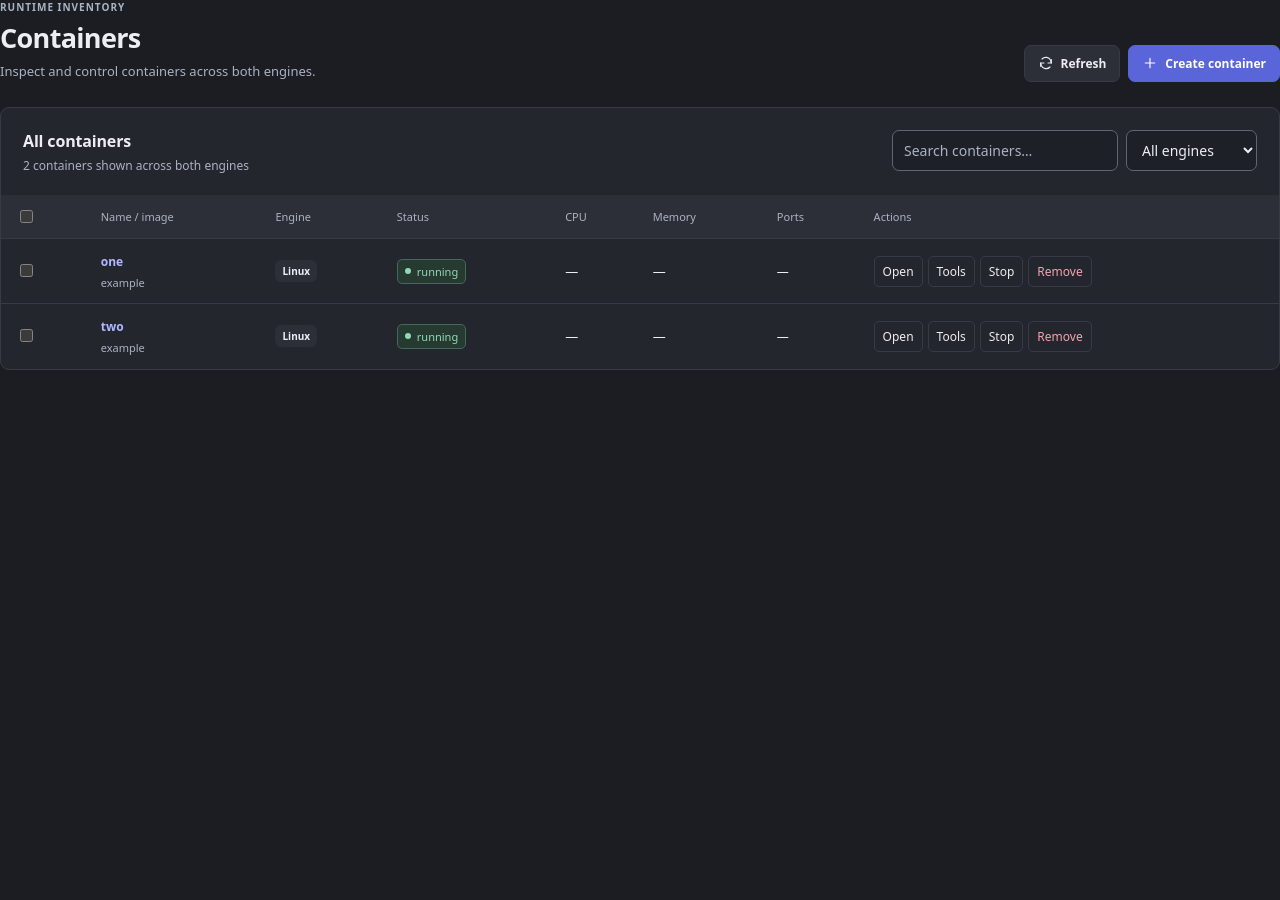
it: confirms bulk kill and keeps only failed containers selected for retry
The image size is (1280, 900).
Expected: the button "one" is shown, [101,253,123,270]
Click the checkbox named "Select one": (26, 271) [20,264,33,277]
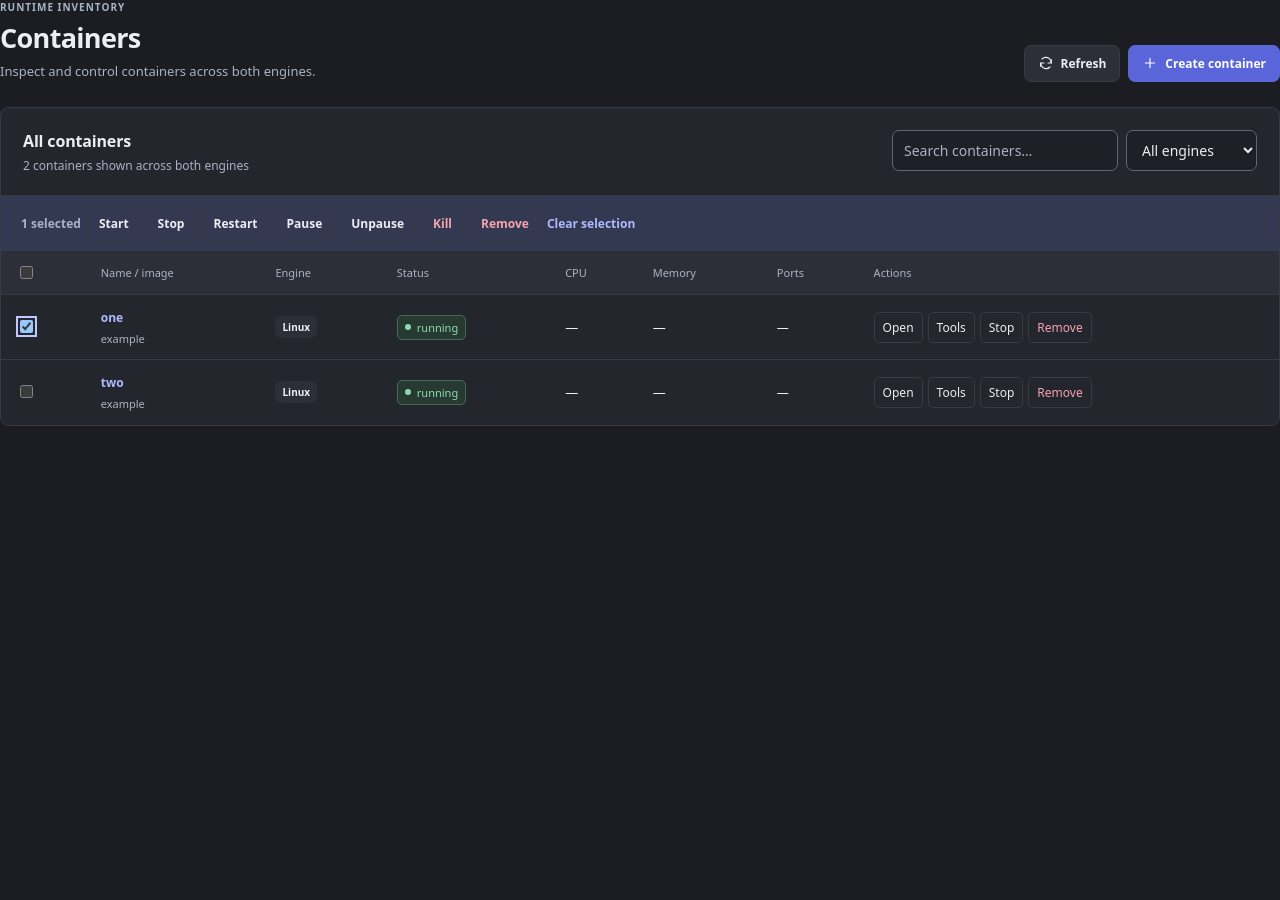
Click the checkbox named "Select two": (26, 392) [20,386,33,398]
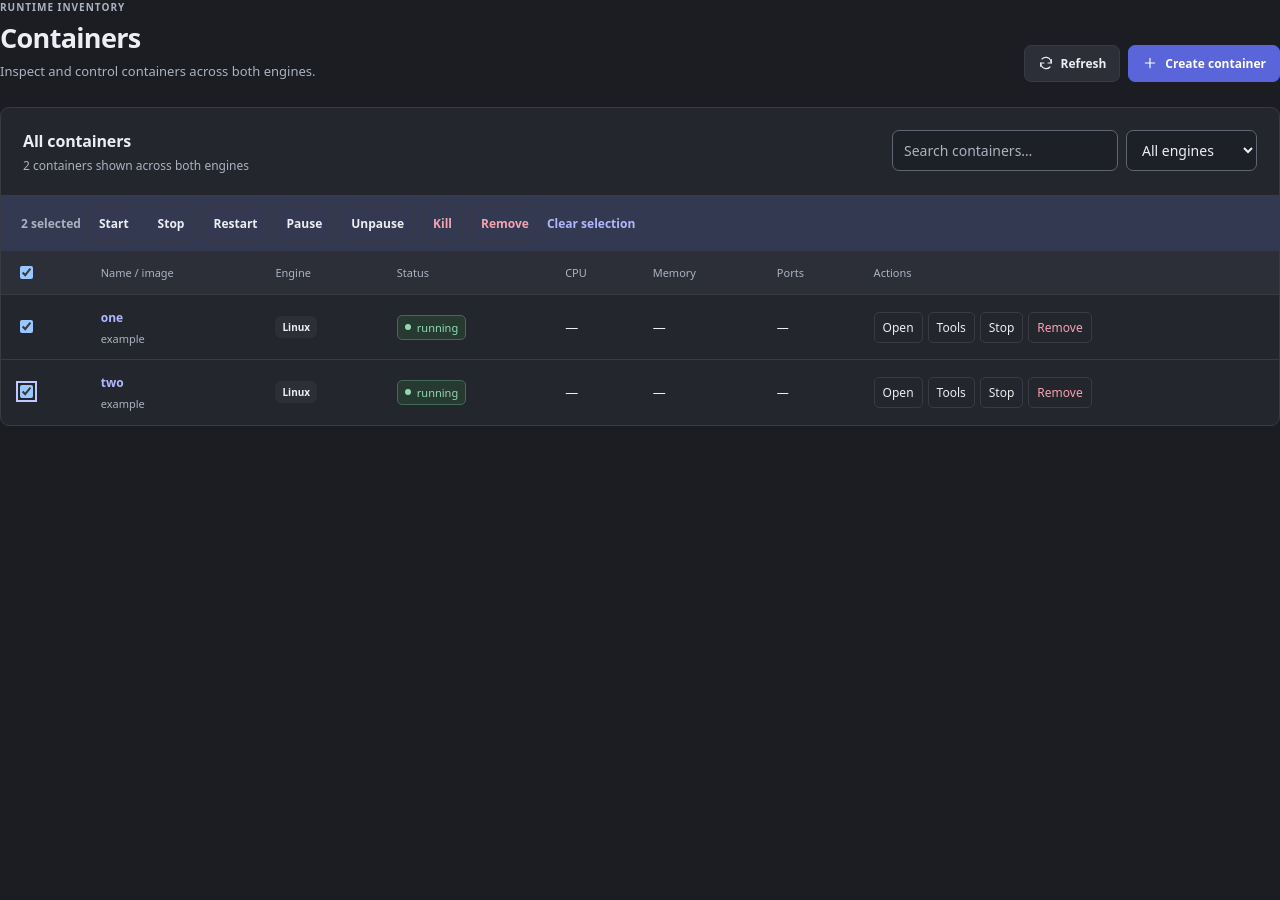
Click the button "Kill": (442, 223) [422,206,463,241]
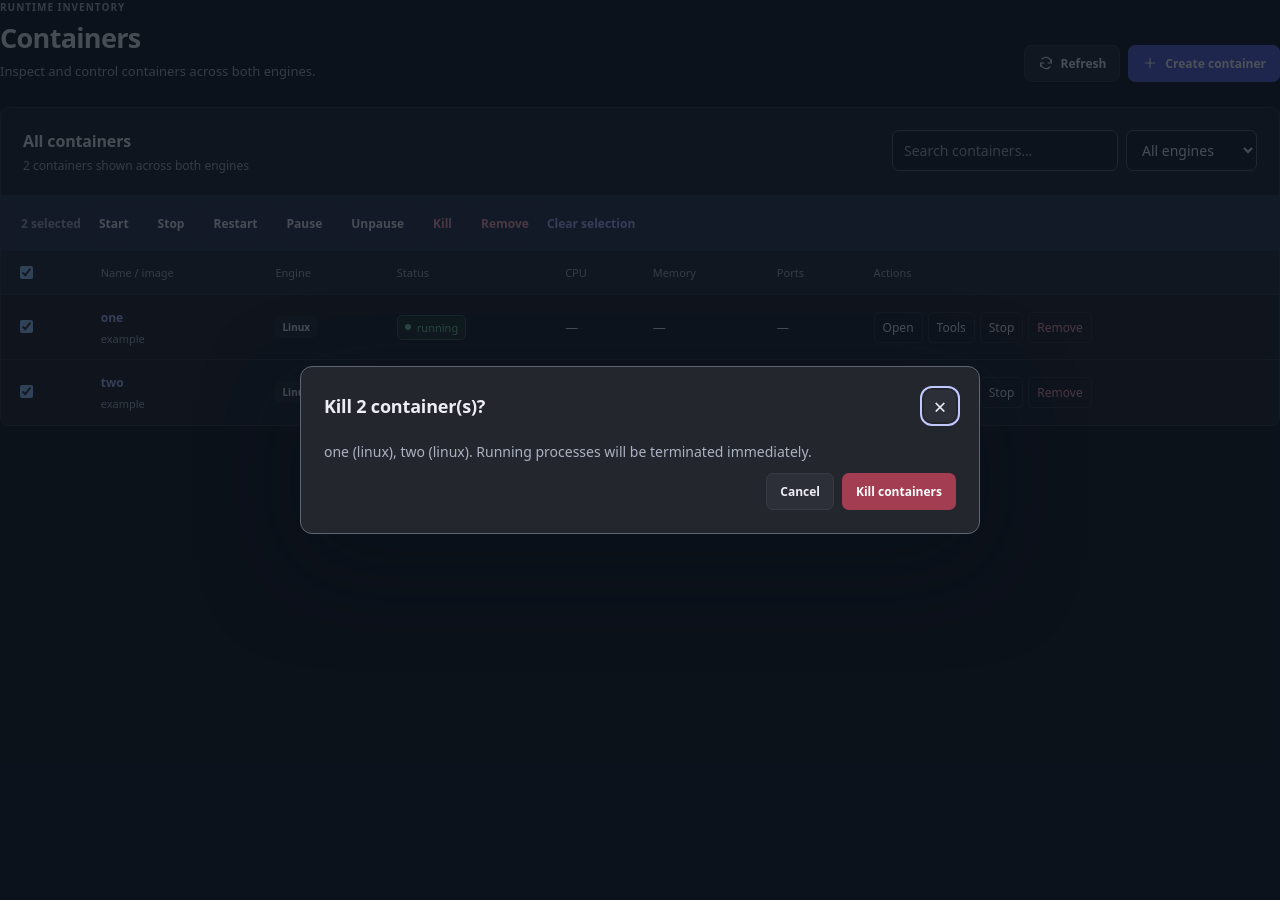
Click the button "Kill containers": (899, 492) [842,473,956,510]
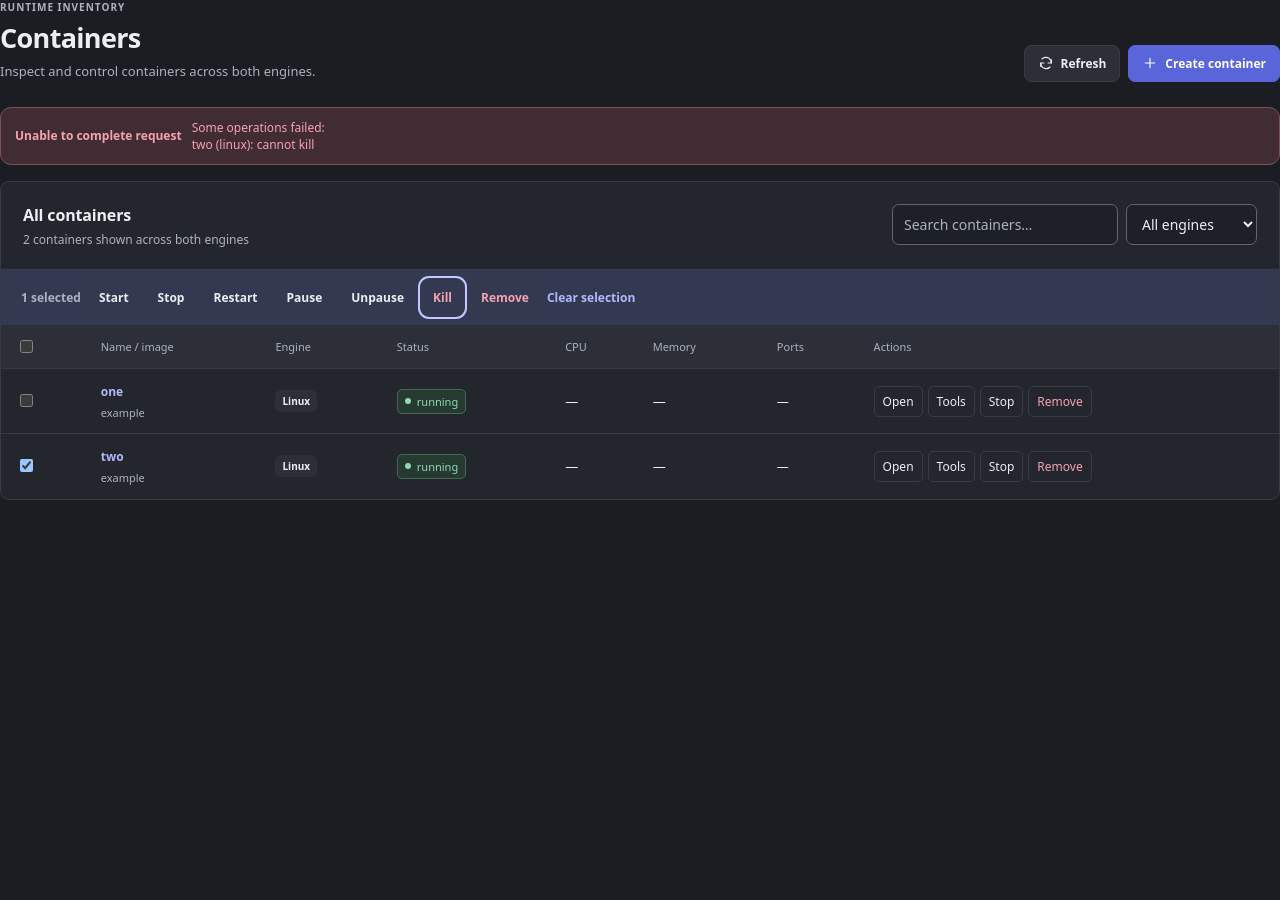
Now the checkbox named "Select one" is not checked, box [20,394,33,407]
Now the checkbox named "Select two" is checked, box [20,460,33,472]
Now the text "Some operations failed: two (linux): cannot kill" is shown, box [192,119,325,153]
